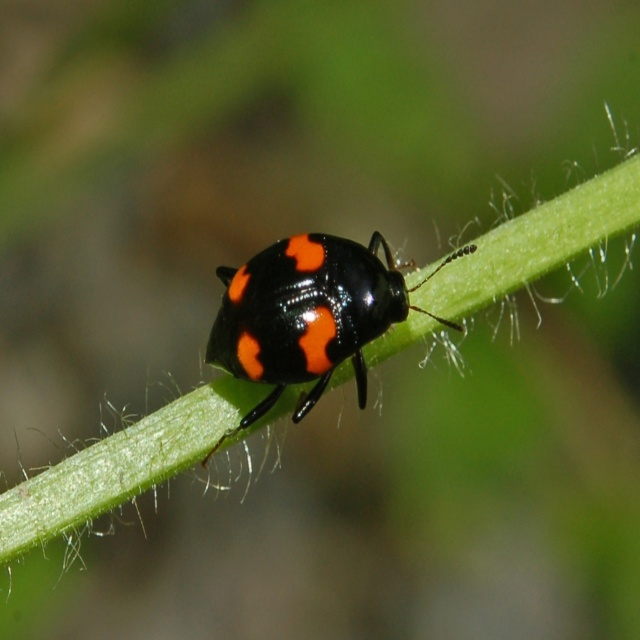Ladybug: (205, 230, 478, 466)
